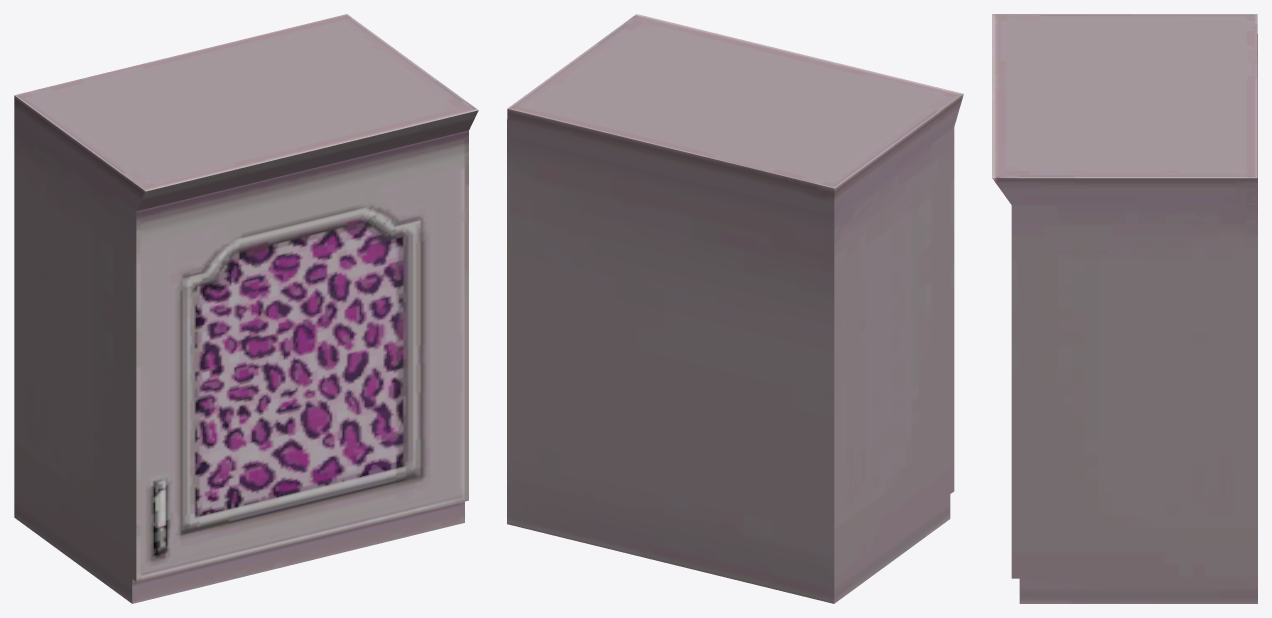
File: furni_0200086_02.FBX
3 renders of one model, left to right at view 1: azimuth 30°, elevation 25°; view 2: azimuth 150°, elevation 25°; view 3: azimuth 270°, elevation 25°, orthographic. The views are drawn at different scales.
Visible parts, largest first — view 1: furni_0200086_02; view 2: furni_0200086_02; view 3: furni_0200086_02.
Boxes of the visible parts, x1,y1,x2,y2 form: furni_0200086_02: (14, 14, 478, 603); furni_0200086_02: (507, 14, 963, 603); furni_0200086_02: (992, 14, 1257, 603).
Bounding box in the file's own units: 80.02 × 97.02 × 54.87.
1 material, 1 textured.
